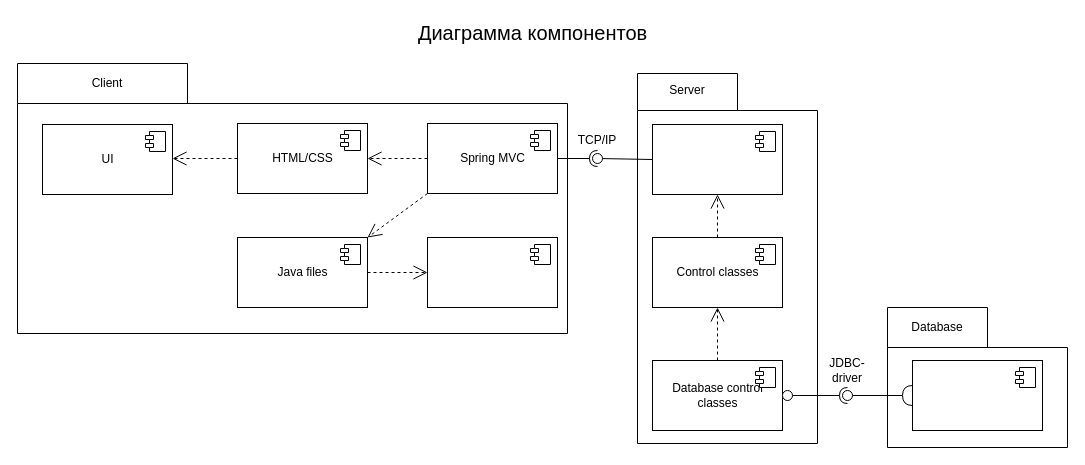
Some shapes in this 1085 by 465 pixel diagram are drawn without their labels. The box of each missing label's shape, as (x1, y1, x2, y2) in pixels:
Business logic: (652, 124, 782, 194)
Classes: (426, 236, 558, 308)
MySQL database: (912, 360, 1042, 430)
